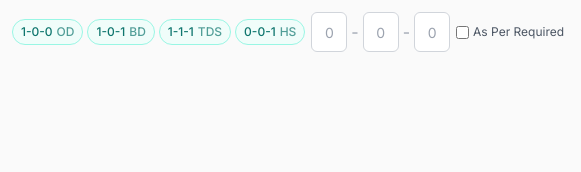
Scenario: FrequencyInput — quick presets › keeps manual entry working after a preset is used
Click the button "1-0-1 BD" at (121, 32), box left=87, top=19, right=155, bottom=45
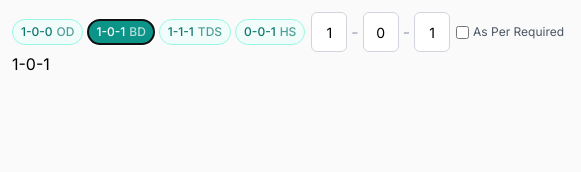
Check: the text with test id "frequency-value" reads "1-0-1", box left=12, top=54, right=50, bottom=74
The boxes are still the source of truth: editing one adjusts the preset's value.
Click the field named "Afternoon dose" at (381, 32), box left=363, top=12, right=399, bottom=52
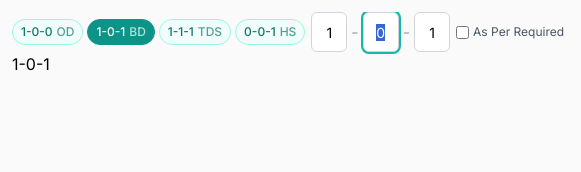
Type keys "2"
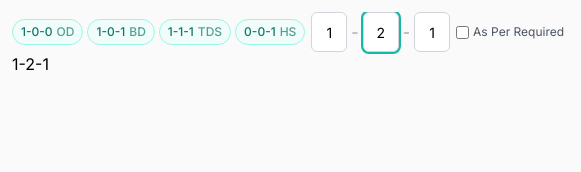
Check: the field named "Afternoon dose" holds "2", box left=363, top=12, right=399, bottom=52
Check: the text with test id "frequency-value" reads "1-2-1", box left=12, top=54, right=49, bottom=74
